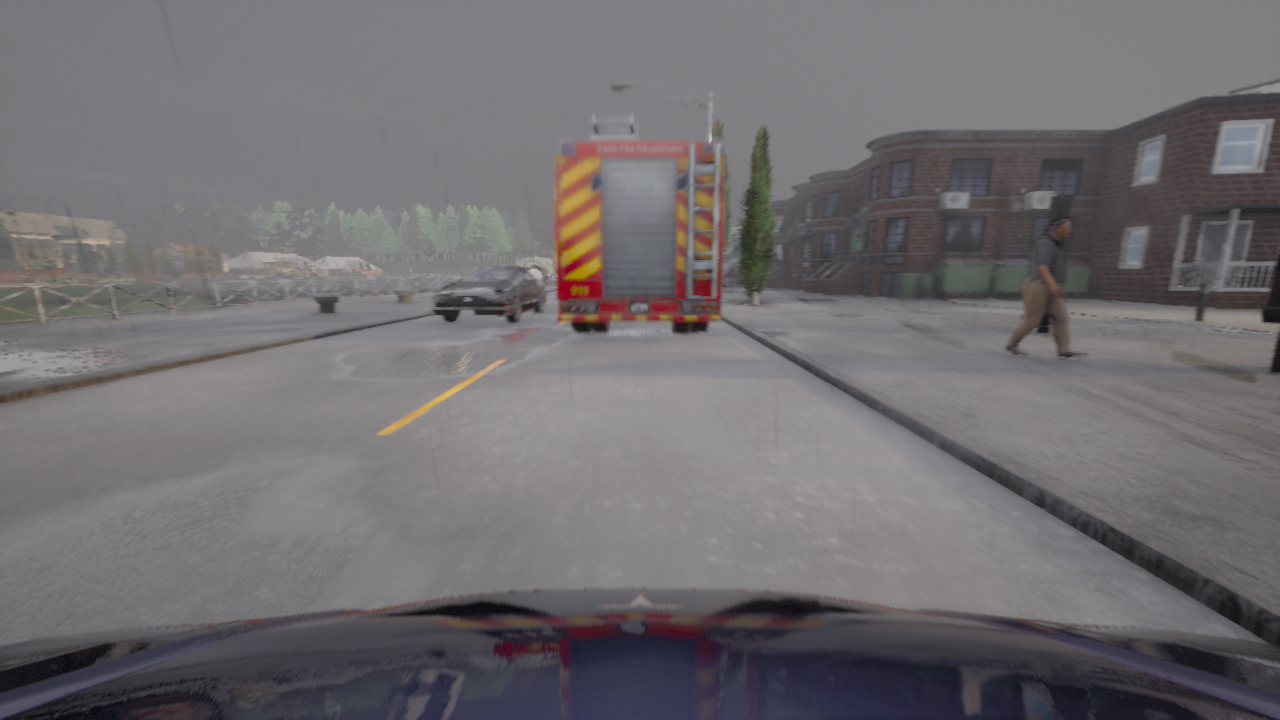cyclist: (0, 588, 1279, 719), (555, 114, 723, 332), (431, 266, 546, 322)
pedestrian: (1004, 215, 1087, 359)
